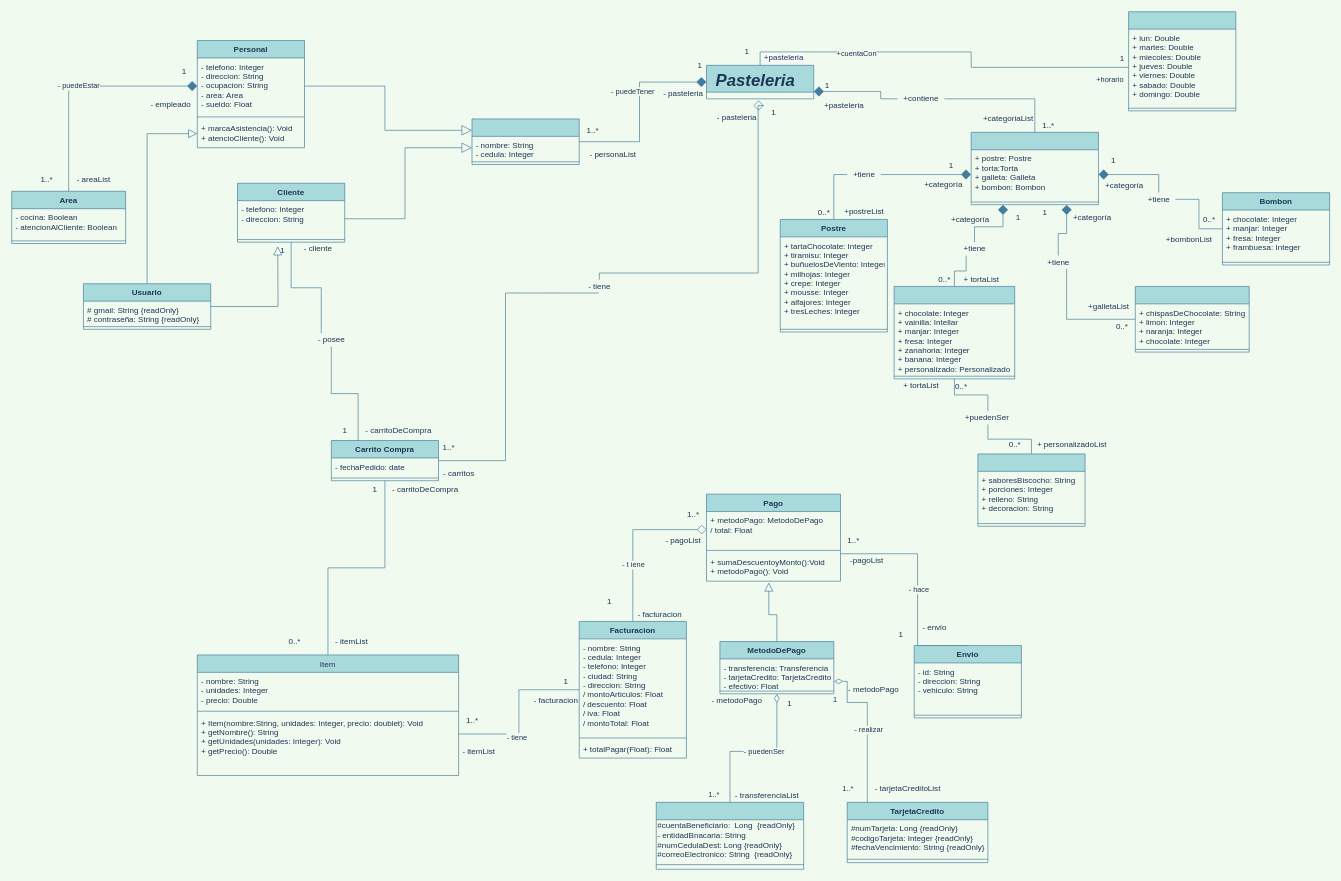
This 1341x881 diagram has some shape labels left out. The shapes that lost their labels are listed below. From the top down, each one's box as (x1, y1, x2, y2) in pixels, then its label:
(1128, 11, 1236, 111): Horario
(471, 118, 579, 164): Persona
(970, 132, 1098, 205): Categoria
(893, 286, 1015, 379): Torta
(1135, 286, 1249, 352): Galleta
(977, 453, 1085, 526): Personalizado
(656, 802, 804, 869): Transferencia
